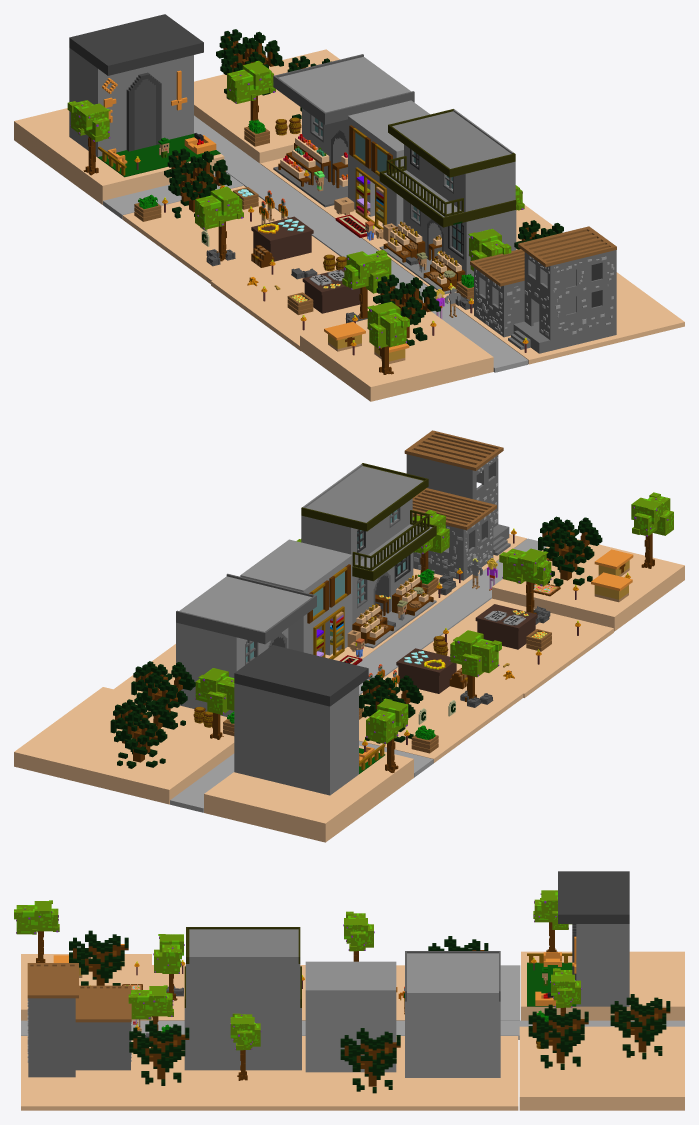
File: grup8vegrup3-harita birlesimi-genel yerlesim.fbx
3 renders of one model, top to bottom at view 1: azimuth 30°, elevation 25°; view 2: azimuth 150°, elevation 25°; view 3: azimuth 270°, elevation 25°, orthographic. The views are drawn at different scales.
Visible parts, largest first — view 1: kilise, bakkal-b, Untitled.013, manav-b, Untitled.020, kilimci_b, Untitled.004, Untitled.022, Untitled.023, Untitled.003, Untitled.005, Untitled.142 (+21 smaller); view 2: kilise, Untitled.003, bakkal-b, Untitled.013, manav-b, Untitled.023, kilimci_b, Untitled.020, Untitled.022, Untitled.004, Untitled.027, Untitled.033 (+18 smaller); view 3: bakkal-b, manav-b, Untitled.003, Untitled.013, kilise, kilimci_b, Untitled.005, Untitled.021, Untitled.006, Untitled.023, Untitled.050, Untitled.059 (+18 smaller).
Part boxes in pixels (x1,y1,x2,y2): kilise: (69, 14, 220, 177); bakkal-b: (379, 109, 516, 294); Untitled.013: (470, 226, 616, 353); manav-b: (273, 54, 414, 207); Untitled.020: (300, 311, 493, 401); kilimci_b: (334, 100, 429, 241); Untitled.004: (122, 185, 332, 283); Untitled.022: (211, 251, 380, 350); Untitled.023: (14, 108, 224, 204); Untitled.003: (194, 49, 339, 163); Untitled.005: (443, 272, 684, 364); Untitled.142: (226, 163, 347, 238); kilise: (234, 645, 385, 795); Untitled.003: (14, 687, 234, 804); bakkal-b: (301, 463, 436, 648); Untitled.013: (404, 430, 510, 580); manav-b: (176, 573, 316, 716); Untitled.023: (204, 745, 413, 842); kilimci_b: (240, 539, 362, 664); Untitled.020: (492, 539, 684, 631); Untitled.022: (422, 598, 613, 697); Untitled.004: (359, 667, 523, 762); Untitled.027: (110, 699, 175, 768); Untitled.033: (538, 516, 602, 586); bakkal-b: (184, 927, 301, 1070); manav-b: (405, 951, 500, 1077); Untitled.003: (519, 1026, 684, 1110); Untitled.013: (27, 963, 131, 1077); kilise: (527, 871, 629, 1006); kilimci_b: (305, 961, 396, 1072); Untitled.005: (21, 1036, 186, 1110); Untitled.021: (186, 1036, 352, 1110); Untitled.006: (352, 1036, 518, 1110); Untitled.023: (521, 951, 684, 1020); Untitled.050: (528, 1004, 588, 1069); Untitled.059: (129, 1020, 189, 1085).
Size of the model in its own units: 5230 by 2092 by 10310.
Materials: 174 (174 with a texture image).
